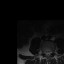CCS_normal: (46, 50, 49, 57)
LFS_normal: (51, 50, 53, 54)
LLS_normal: (49, 50, 50, 56)
RFS_normal: (43, 50, 45, 55)
RLS_normal: (45, 50, 47, 56)
